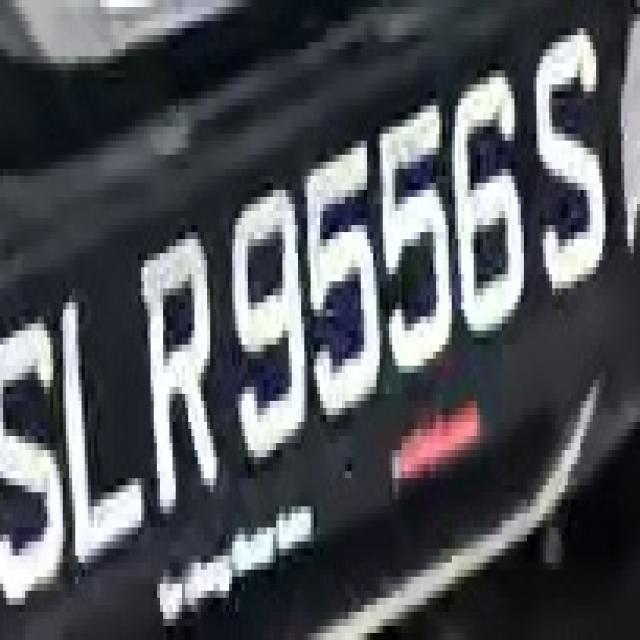5: (295, 134, 389, 422), (373, 105, 455, 401)
6: (446, 70, 534, 366)
9: (222, 162, 314, 464)
L: (59, 260, 148, 577)
R: (129, 204, 232, 563)
S: (530, 35, 612, 303), (6, 288, 69, 612)
